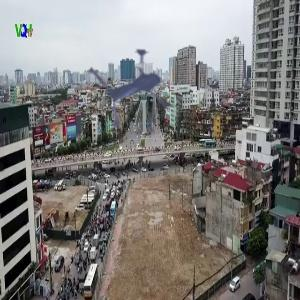drone: (76, 23, 205, 152)
